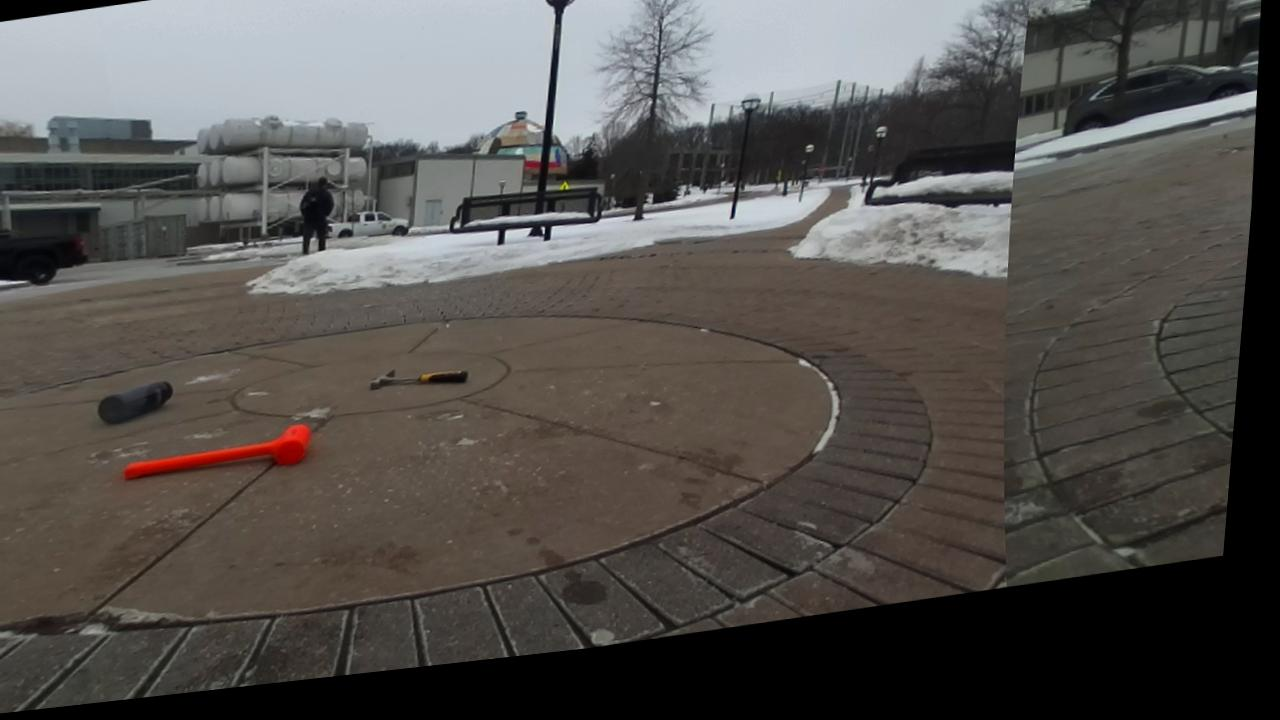bottle: (99, 381, 172, 423)
mallet: (124, 424, 310, 479)
pick: (370, 370, 467, 389)
